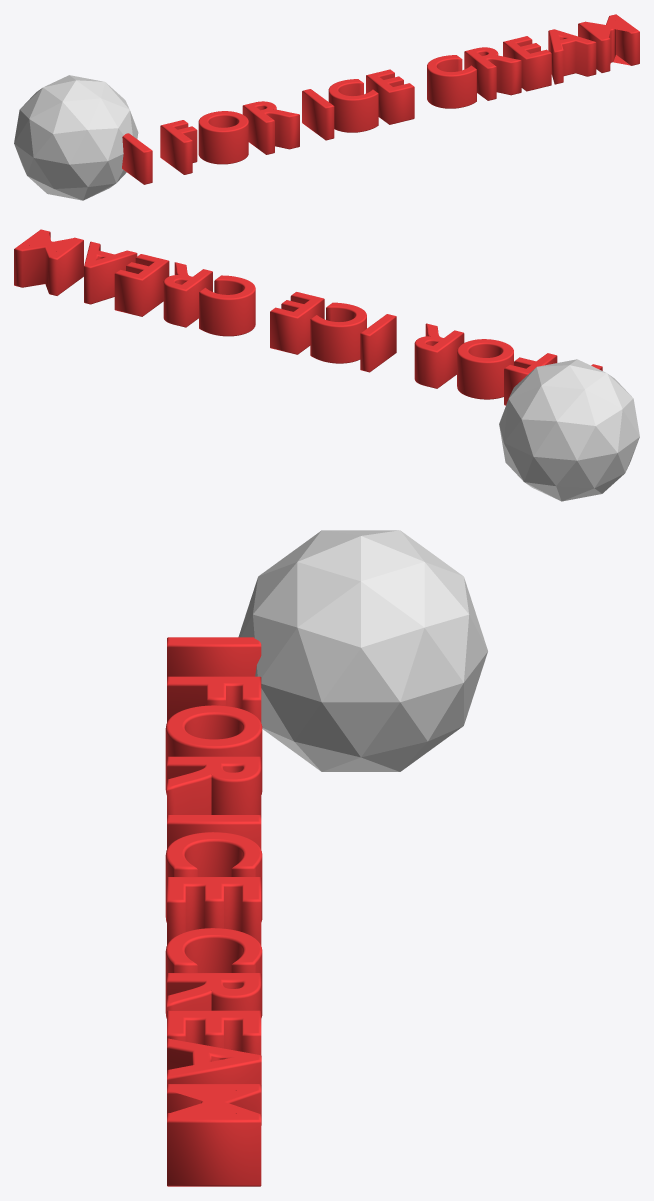
The model's file is ICECREAMTEXT.fbx.
3 renders of one model, top to bottom at view 1: azimuth 30°, elevation 25°; view 2: azimuth 150°, elevation 25°; view 3: azimuth 270°, elevation 25°, orthographic. The views are drawn at different scales.
Parts seen in each view (by area): view 1: Text.001, Icosphere; view 2: Text.001, Icosphere; view 3: Text.001, Icosphere.
Boxes of the visible parts, x1,y1,x2,y2 form: Text.001: (122, 14, 639, 184); Icosphere: (14, 75, 138, 200); Text.001: (14, 229, 602, 405); Icosphere: (499, 359, 639, 501); Text.001: (165, 637, 262, 1186); Icosphere: (238, 530, 487, 771).
Size of the model in its own units: 1031 by 200 by 254.
